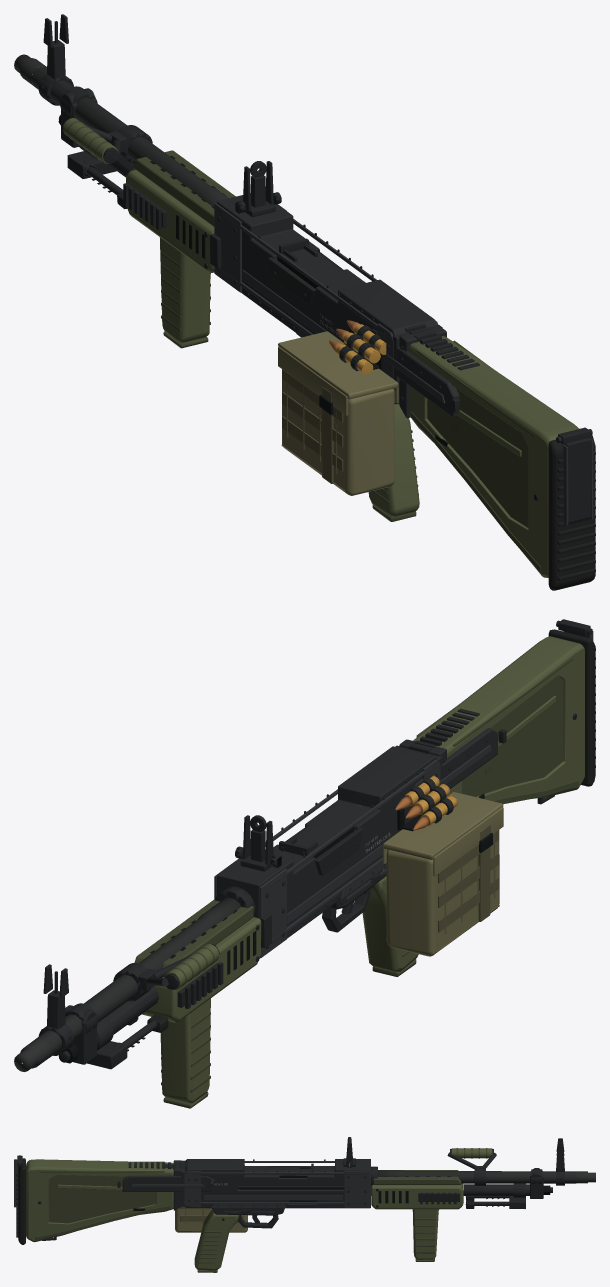
The model's file is weapon-49-CyQd5ny8.glb.
3 views of the same model, one above another, from view 1: azimuth 30°, elevation 25°; view 2: azimuth 150°, elevation 25°; view 3: azimuth 270°, elevation 25° (orthographic). The views are drawn at different scales.
Parts seen in each view (by area): view 1: salient_weapon_body, salient_weapon_magazine, salient_weapon_cover, salient_weapon_iron, salient_weapon_belt; view 2: salient_weapon_body, salient_weapon_magazine, salient_weapon_cover, salient_weapon_iron, salient_weapon_belt; view 3: salient_weapon_body, salient_weapon_cover, salient_weapon_magazine, salient_weapon_iron.
Boxes of the visible parts, bbox=[...] form: salient_weapon_body: bbox=[14, 40, 595, 590]; salient_weapon_magazine: bbox=[278, 328, 398, 495]; salient_weapon_cover: bbox=[370, 323, 479, 417]; salient_weapon_iron: bbox=[43, 14, 281, 217]; salient_weapon_belt: bbox=[329, 320, 386, 374]; salient_weapon_body: bbox=[14, 619, 595, 1108]; salient_weapon_magazine: bbox=[382, 792, 503, 956]; salient_weapon_cover: bbox=[405, 708, 506, 807]; salient_weapon_iron: bbox=[43, 815, 281, 997]; salient_weapon_belt: bbox=[395, 775, 457, 830]; salient_weapon_body: bbox=[14, 1148, 595, 1272]; salient_weapon_cover: bbox=[117, 1162, 213, 1191]; salient_weapon_magazine: bbox=[175, 1206, 247, 1232]; salient_weapon_iron: bbox=[343, 1137, 564, 1167].
Bounding box in the file's own units: 0.1216 × 0.257 × 1.03.
